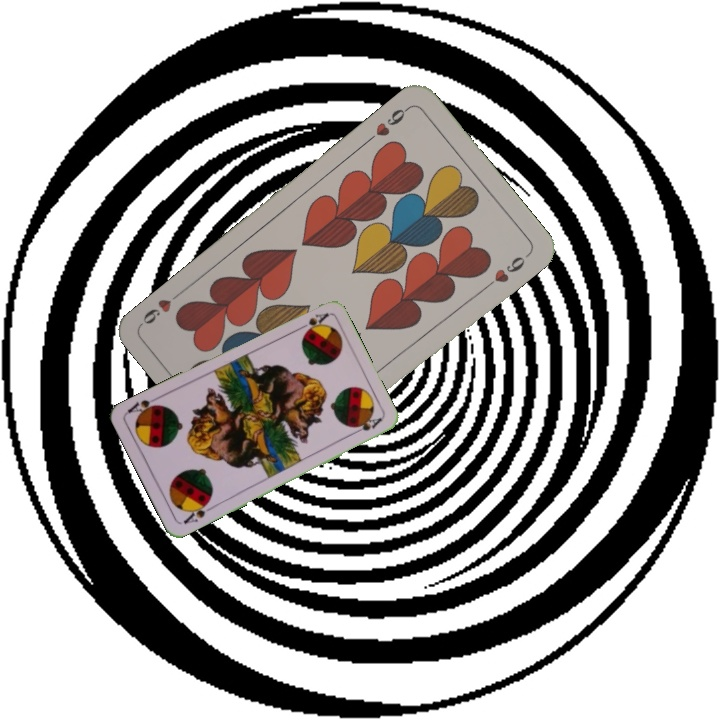H9: (363, 102, 413, 145)
SA: (179, 497, 216, 526), (292, 308, 331, 335)
